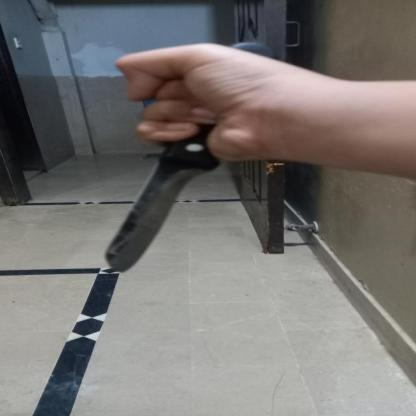Knife: (92, 42, 272, 271)
